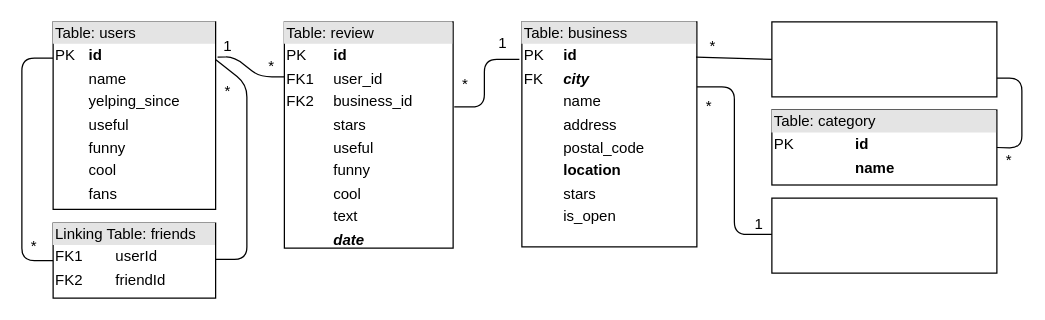
This 1045x320 diagram has some shape labels left out. Here are the shapes that lost their labels. From the top down, the centre of each, then its label:
point 884,59: Linking Table: bus_2_cat FK1 business_id FK2 category_id
point 884,235: Table: city PK1 id PK2 state
